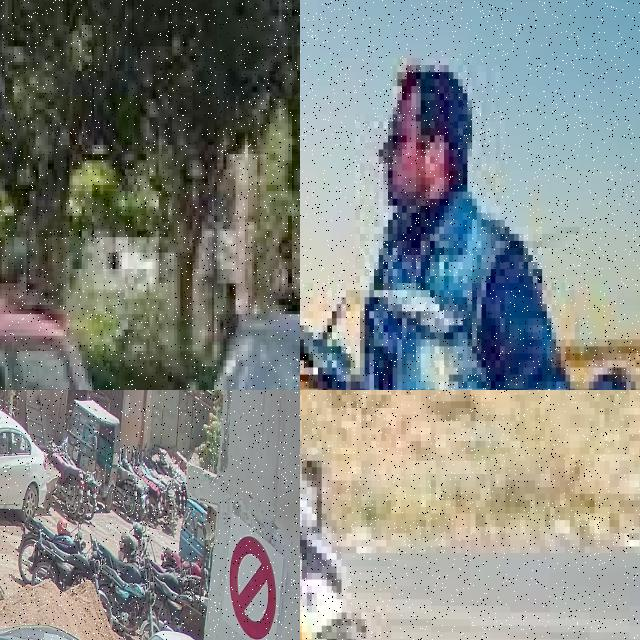bike: (300, 297, 640, 390), (16, 512, 82, 586), (27, 528, 101, 592), (100, 558, 157, 636), (47, 440, 84, 518), (95, 536, 150, 586), (161, 546, 208, 598), (153, 576, 194, 631), (152, 555, 185, 595), (115, 464, 138, 516), (118, 522, 147, 563)
car: (0, 268, 171, 390), (0, 399, 47, 526)
